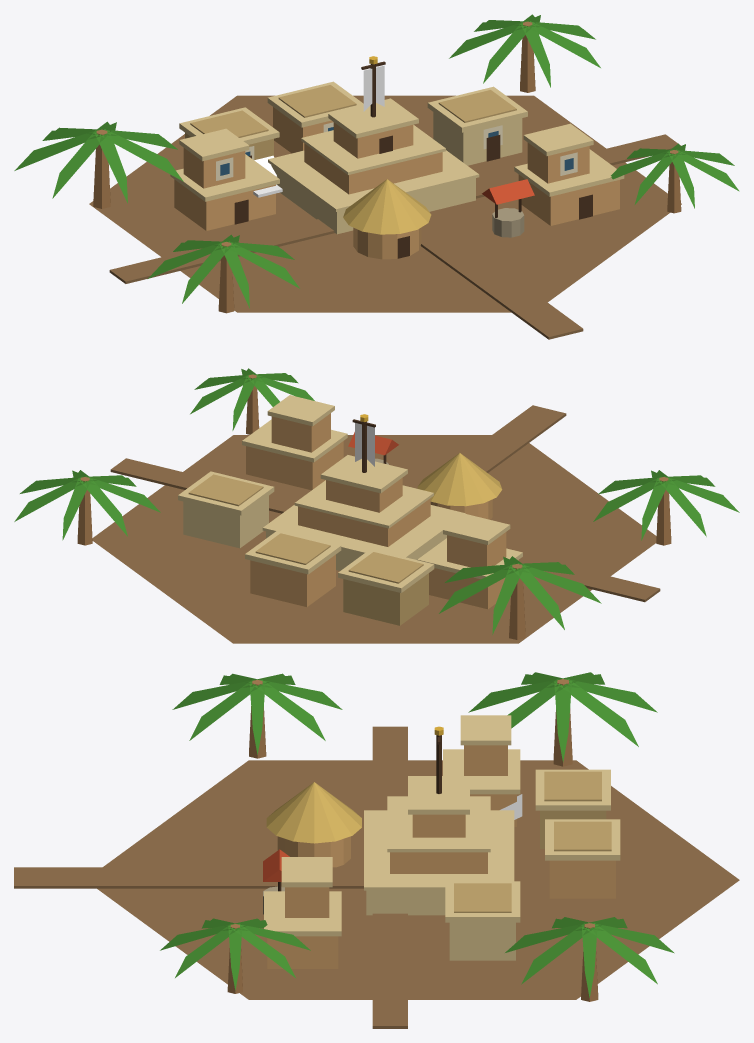
The model's file is city_0_2.fbx.
3 renders of one model, top to bottom at view 1: azimuth 30°, elevation 25°; view 2: azimuth 150°, elevation 25°; view 3: azimuth 270°, elevation 25°, orthographic. The views are drawn at different scales.
Parts seen in each view (by area): view 1: city_0_2; view 2: city_0_2; view 3: city_0_2.
Part boxes in pixels (left/top/right/bottom): city_0_2: left=14, top=14, right=739, bottom=339; city_0_2: left=14, top=368, right=739, bottom=643; city_0_2: left=14, top=672, right=739, bottom=1028.
Bounding box in the file's own units: 238 × 53.56 × 233.
